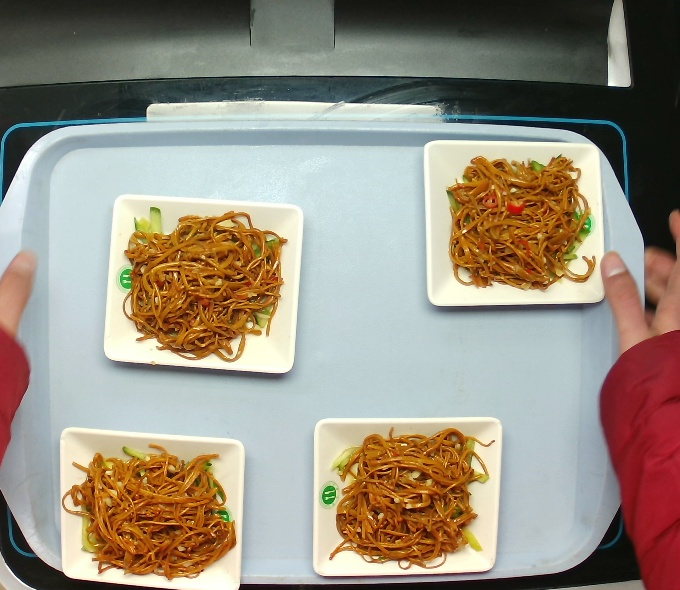wcq-LiangBanChongCaoHua: (117, 204, 292, 369), (318, 421, 496, 571), (59, 436, 239, 581), (440, 146, 604, 296)
